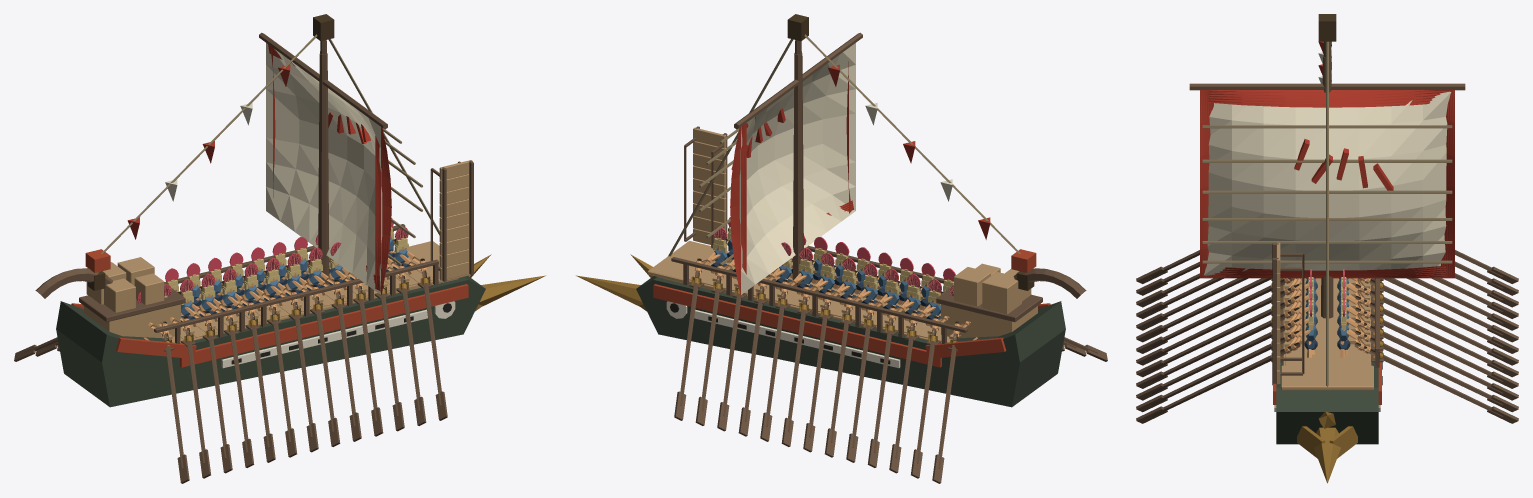
The model's file is warship-battle-v1.glb.
3 views of the same model, side by side, from view 1: azimuth 30°, elevation 25°; view 2: azimuth 150°, elevation 25°; view 3: azimuth 270°, elevation 25° (orthographic). The views are drawn at different scales.
Parts seen in each view (by area): view 1: sail, hull-low, n27, mast, n295, n281, n253, n31, n283, n29, n289, n275 (+22 smaller); view 2: sail, hull-low, n3, mast, n293, n281, n233, n7, n273, Bow transfer deck, n277, n5 (+19 smaller); view 3: sail, hull-low, n297, Bow transfer deck, n299, n289, n293, n295, n325, n307, n311, n301 (+29 smaller).
Part boxes in pixels (<box>): sail: <box>266,43,382,294</box>; hull-low: <box>56,276,485,407</box>; n27: <box>180,284,468,367</box>; mast: <box>318,53,329,283</box>; n295: <box>375,127,391,294</box>; n281: <box>84,304,180,338</box>; n253: <box>154,259,438,332</box>; n31: <box>221,309,427,368</box>; n283: <box>79,283,185,321</box>; n29: <box>115,337,196,357</box>; n289: <box>259,32,387,129</box>; n275: <box>104,278,135,312</box>; sail: <box>739,43,855,294</box>; hull-low: <box>636,276,1065,407</box>; n3: <box>653,284,941,367</box>; mast: <box>792,53,803,285</box>; n293: <box>730,123,746,294</box>; n281: <box>941,304,1037,338</box>; n233: <box>671,257,967,332</box>; n7: <box>694,309,900,368</box>; n273: <box>982,272,1021,314</box>; Bow transfer deck: <box>647,241,727,282</box>; n277: <box>954,267,990,306</box>; n5: <box>925,337,1006,358</box>; sail: <box>1204,91,1451,275</box>; hull-low: <box>1276,285,1378,444</box>; n297: <box>1208,90,1449,107</box>; Bow transfer deck: <box>1281,365,1373,390</box>; n299: <box>1201,265,1446,278</box>; n289: <box>1189,83,1465,90</box>; n293: <box>1441,90,1454,278</box>; n295: <box>1200,90,1213,278</box>; n325: <box>1326,41,1328,388</box>; n307: <box>1202,190,1452,193</box>; n311: <box>1202,125,1452,128</box>; n301: <box>1202,260,1452,263</box>.
Size of the model in its own units: 6.41 by 4.2 by 3.75.
